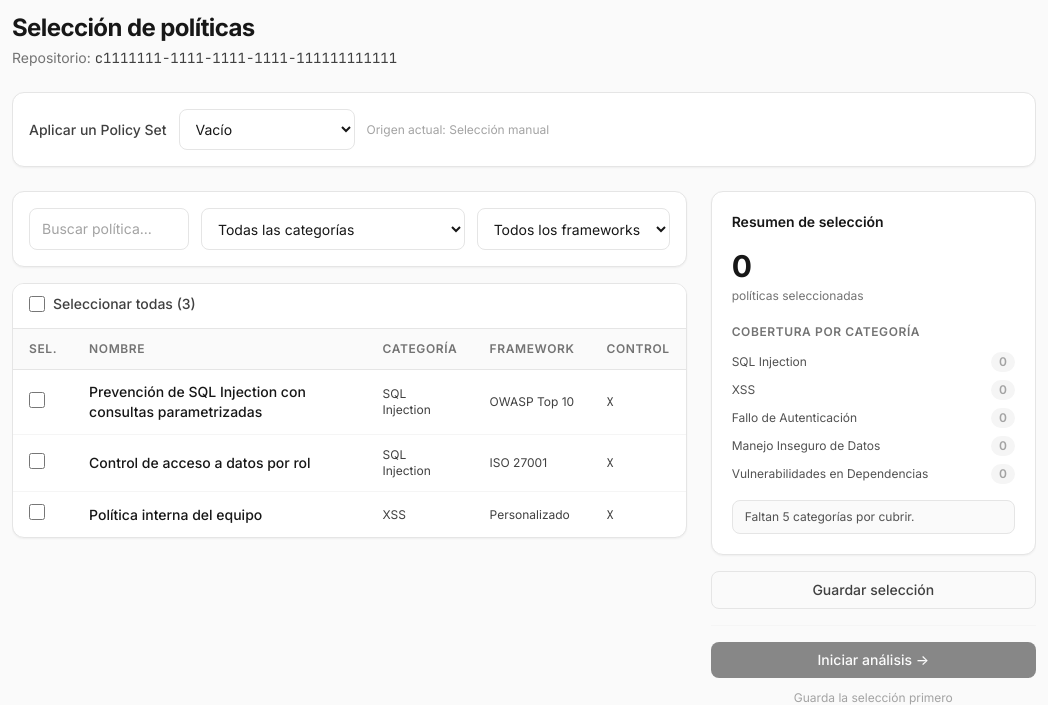
Test: Policy Set is actually usable from the analysis flow › diverging from an applied Policy Set offers to save the variant as a new one, which then gets applied
This screenshot has width=1048, height=705.
Select "Perfil PDG ICESI (2)" in the dropdown named "elegir un policy set para aplicar" at (267, 130), box [179,109,355,150]
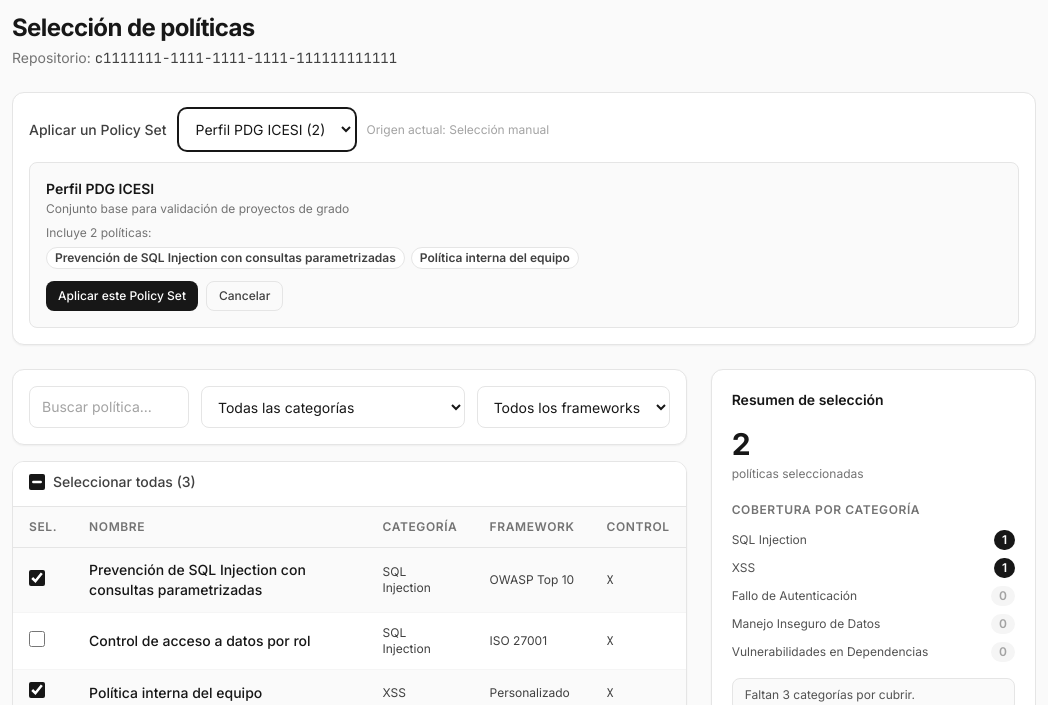
Click the button "Aplicar este Policy Set" at (122, 296), box [46,281,198,311]
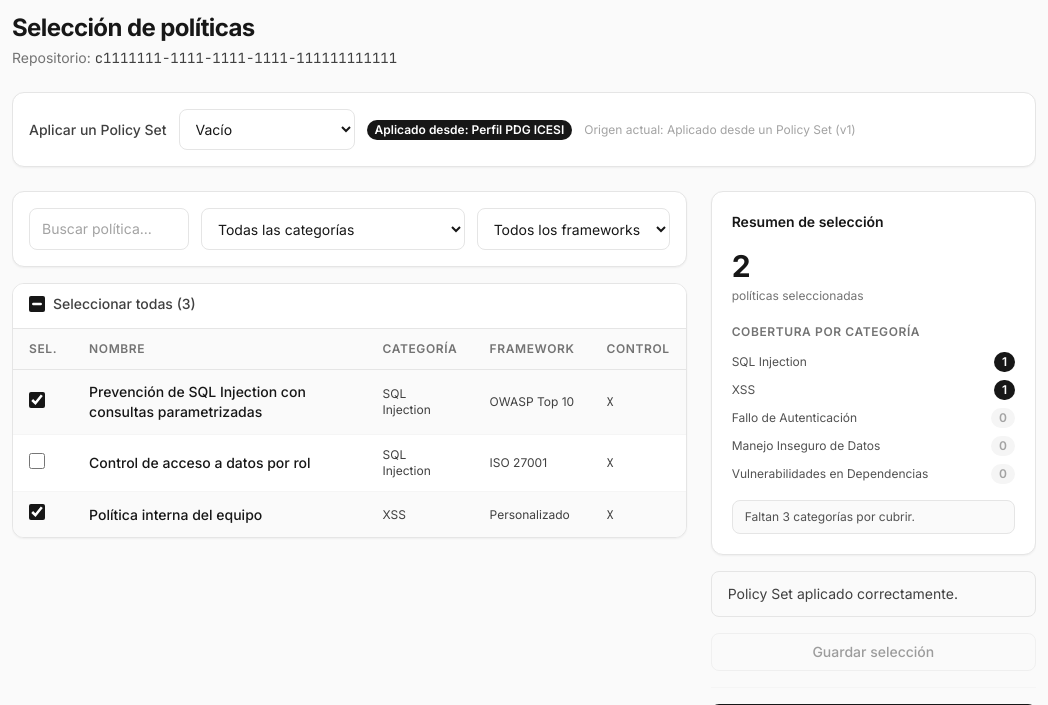
Expected: the text "ya no coincide exactamente" is not shown
Expected: the text "Aplicado desde: Perfil PDG ICESI" is shown, [367,120,572,140]
Add a policy that isn't part of "Perfil PDG ICESI" -- now it diverges.
Click the checkbox named "Control de acceso a datos por rol" at (37, 460), box [29,452,45,468]
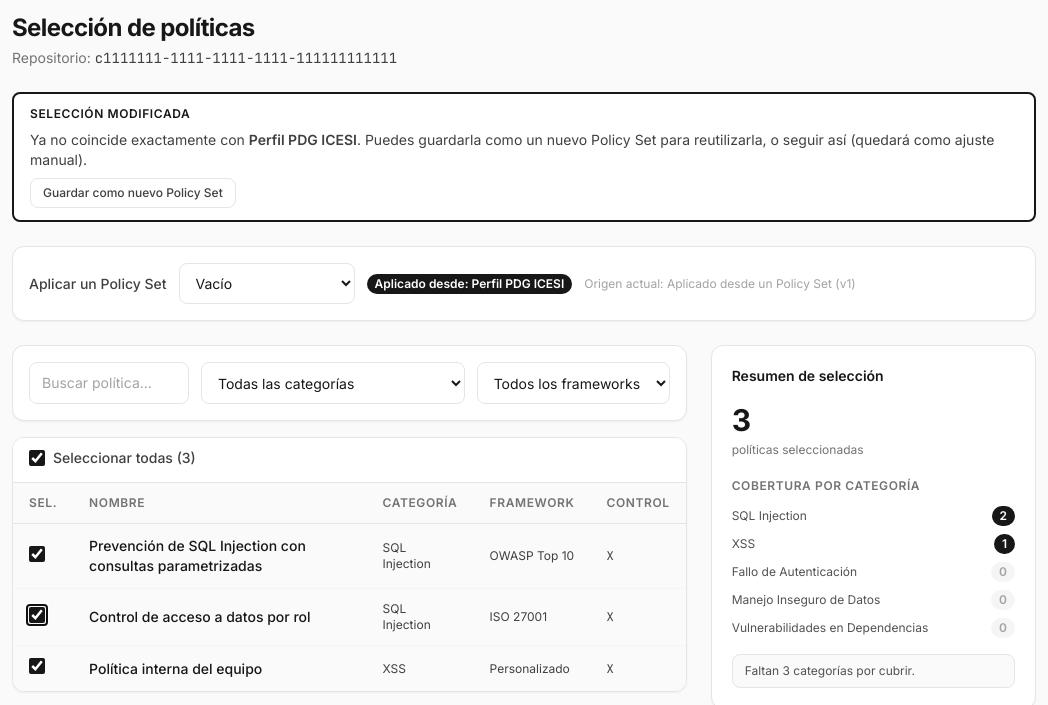
Expected: the text "Ya no coincide exactamente" is shown, [30,131,245,148]
Click the button "Guardar como nuevo Policy Set" at (133, 193), box [30,178,236,208]
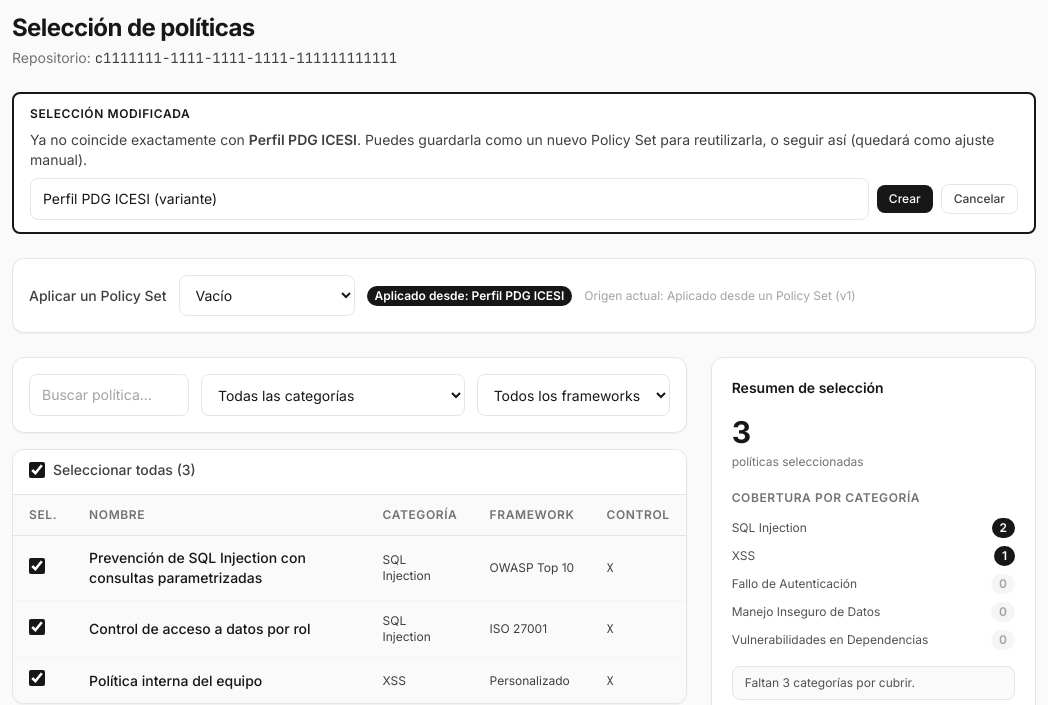
Expected: the field named "Nombre del nuevo Policy Set" holds "Perfil PDG ICESI (variante)"
Replace the text in the field named "Nombre del nuevo Policy Set" with "Mi variante" at (449, 199), box [30,178,869,220]
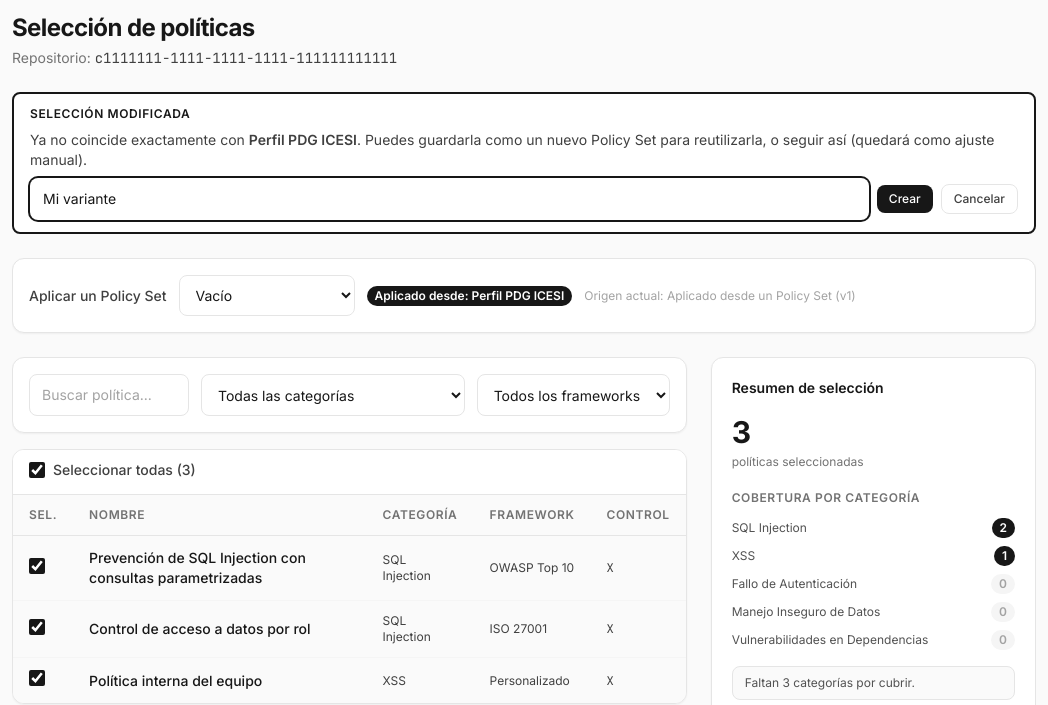
Click the button "Crear" at (905, 199), box [877,185,933,213]
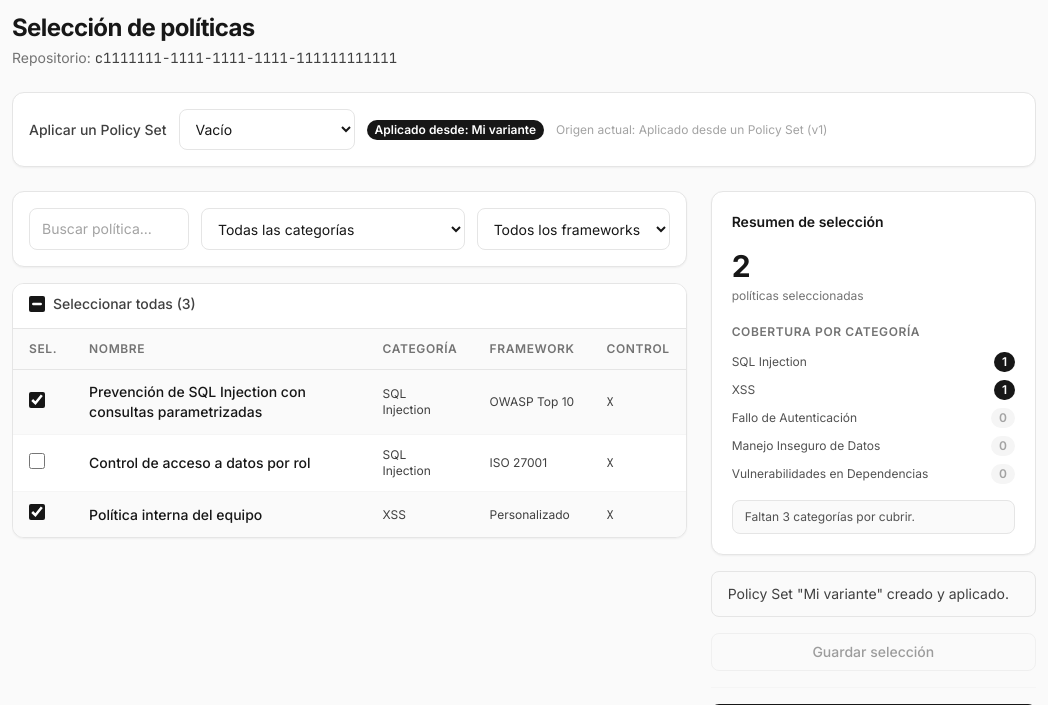
Expected: the text "Policy Set \"Mi variante\" creado y aplicado." is shown, [711,571,1036,617]
Expected: the text "Ya no coincide exactamente" is gone
